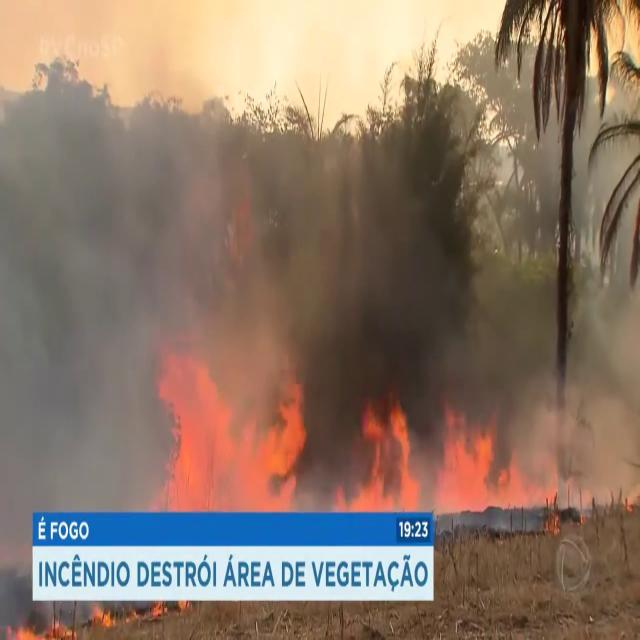Fire: (146, 337, 312, 513), (336, 392, 561, 516)
Smoke: (0, 0, 329, 479)
